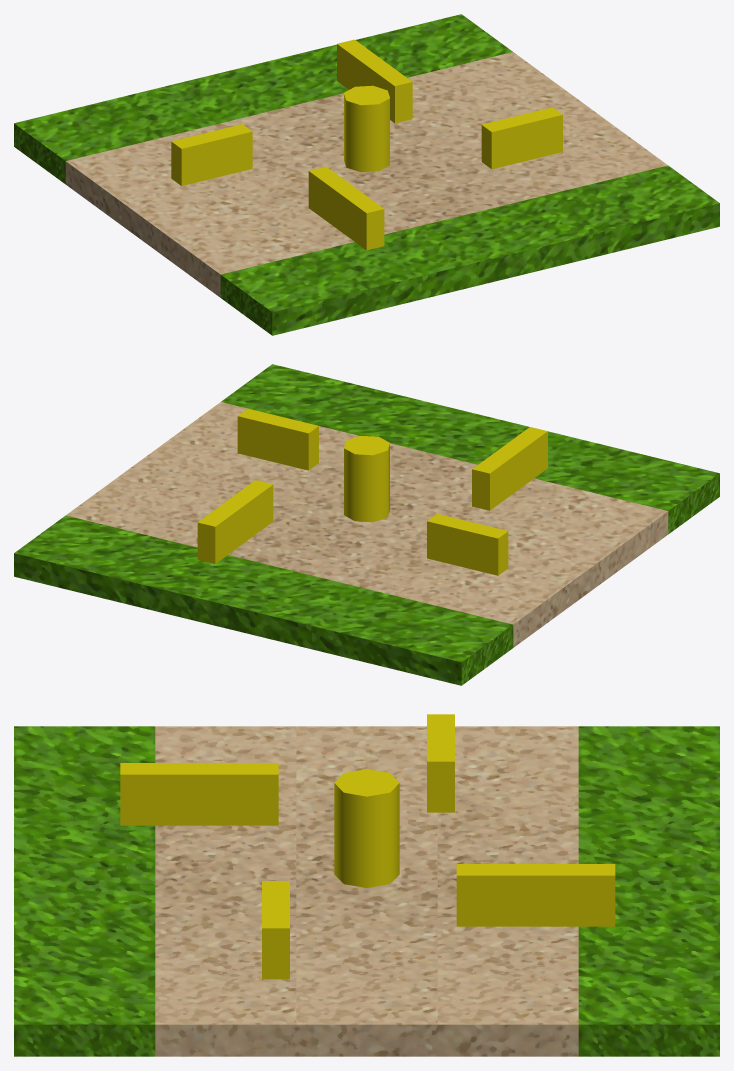
Rendered from Stage_KAZAGURUMA_WALL 1.fbx.
3 views of the same model, one above another, from view 1: azimuth 30°, elevation 25°; view 2: azimuth 150°, elevation 25°; view 3: azimuth 270°, elevation 25° (orthographic). The views are drawn at different scales.
Parts seen in each view (by area): view 1: graund, cube26, cube23, cube24, cylinder, cube25; view 2: graund, cube25, cube26, cube23, cube24, cylinder; view 3: graund, cube25, cube26, cylinder, cube23, cube24.
Part boxes in pixels (<box>): graund: <box>14,14,719,335</box>; cube26: <box>308,166,384,250</box>; cube23: <box>171,124,252,185</box>; cube24: <box>481,107,562,169</box>; cylinder: <box>344,85,389,172</box>; cube25: <box>337,39,412,123</box>; graund: <box>14,364,719,685</box>; cube25: <box>197,480,273,563</box>; cube26: <box>472,427,547,510</box>; cube23: <box>427,514,508,575</box>; cube24: <box>237,408,318,470</box>; cylinder: <box>344,435,389,522</box>; graund: <box>14,726,719,1056</box>; cube25: <box>456,864,615,926</box>; cube26: <box>120,763,278,825</box>; cylinder: <box>334,769,399,887</box>; cube23: <box>427,714,454,812</box>; cube24: <box>262,881,289,979</box>.
Size of the model in its own units: 3000 by 584 by 3000.
2 materials, 2 textured.
